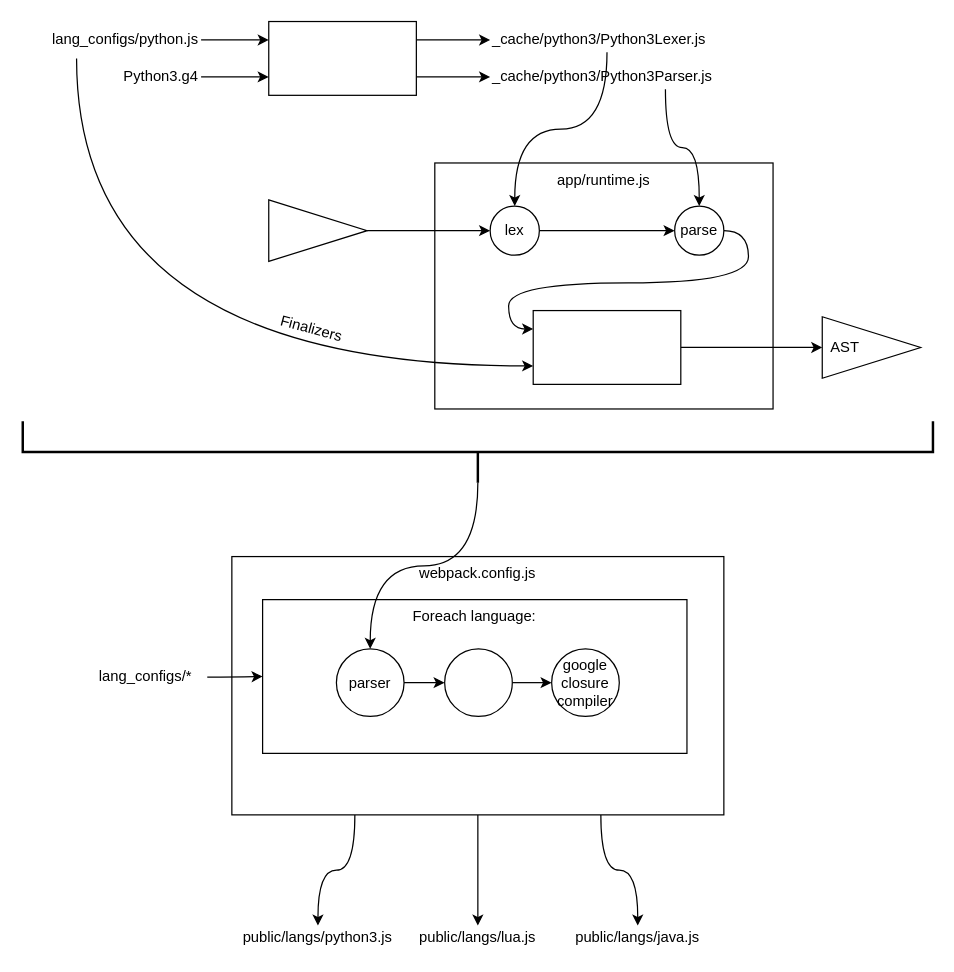
Some shapes in this 954 by 972 pixel diagram are drawn without their labels. Each missing label, with the centre of its shape:
app/compile.js: the point at 342,57
packing: the point at 477,682
tree generation: the point at 606,346
{code}: the point at 317,230
